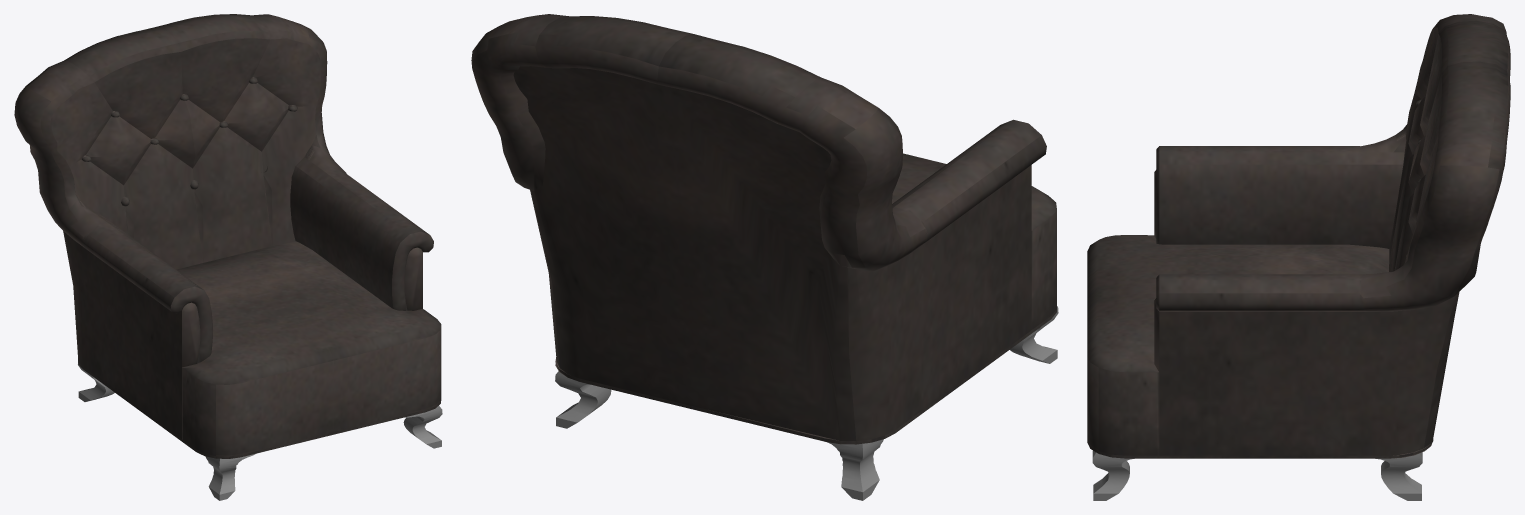
File: chairWatson.fbx
3 views of the same model, side by side, from view 1: azimuth 30°, elevation 25°; view 2: azimuth 150°, elevation 25°; view 3: azimuth 270°, elevation 25° (orthographic). The views are drawn at different scales.
Parts seen in each view (by area): view 1: instance_2_Component_8_group_0; view 2: instance_2_Component_8_group_0; view 3: instance_2_Component_8_group_0.
Part boxes in pixels (bbox=[...]): instance_2_Component_8_group_0: bbox=[14, 14, 442, 500]; instance_2_Component_8_group_0: bbox=[471, 14, 1058, 500]; instance_2_Component_8_group_0: bbox=[1087, 14, 1510, 500].
Bounding box in the file's own units: 71.39 × 72.99 × 74.44.
Materials: 4 (2 with a texture image).
